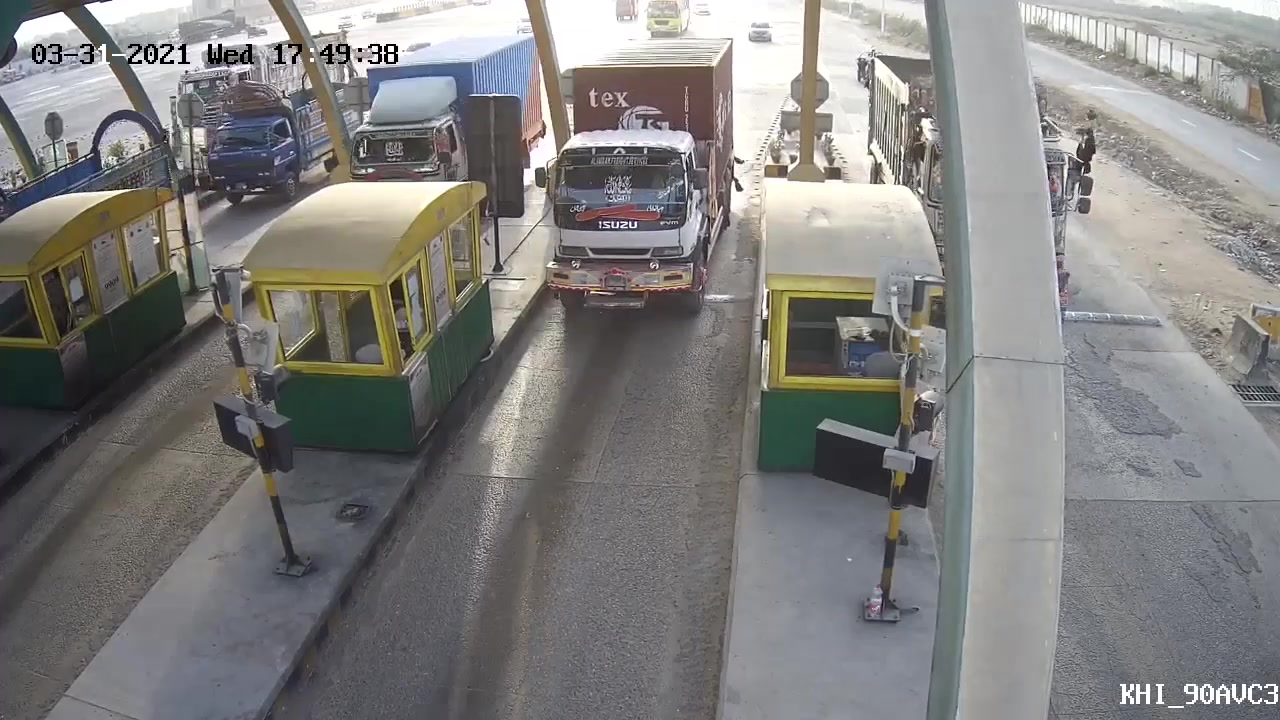F5: (531, 35, 741, 330)
